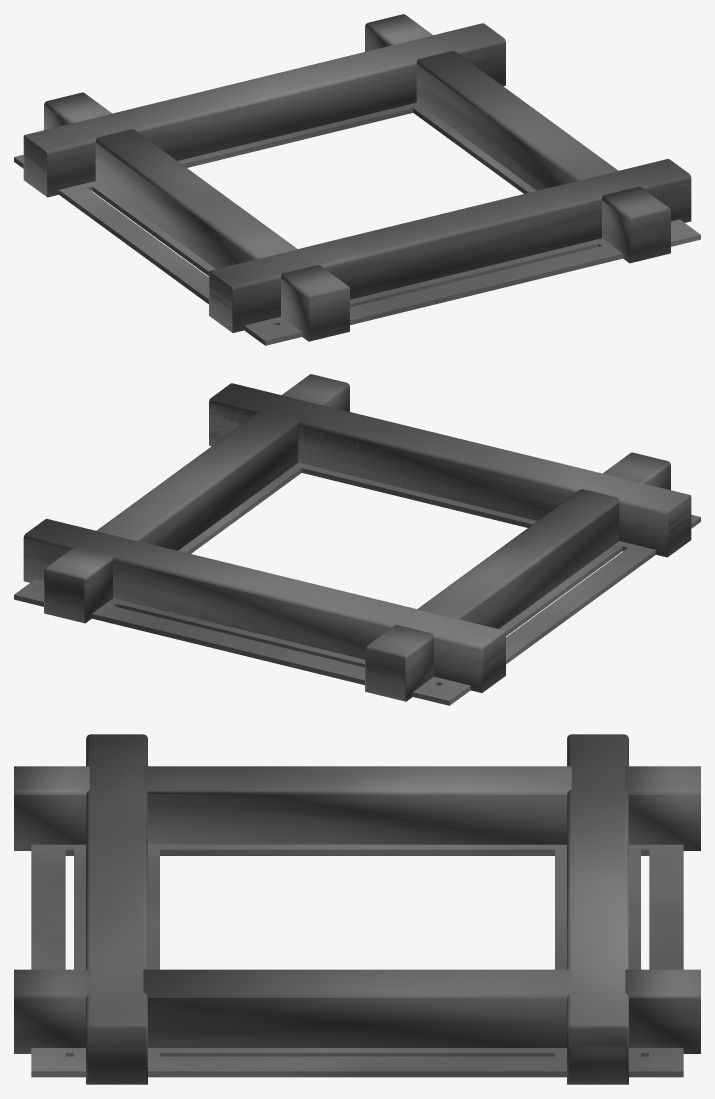
File: FourWayRailRail.fbx
3 renders of one model, top to bottom at view 1: azimuth 30°, elevation 25°; view 2: azimuth 150°, elevation 25°; view 3: azimuth 270°, elevation 25°, orthographic. The views are drawn at different scales.
Parts seen in each view (by area): view 1: FourWayRail; view 2: FourWayRail; view 3: FourWayRail.
Part boxes in pixels (<box>): FourWayRail: <box>14,14,700,345</box>; FourWayRail: <box>14,374,700,705</box>; FourWayRail: <box>14,734,700,1084</box>.
Bounding box in the file's own units: 200 × 19.26 × 200.
